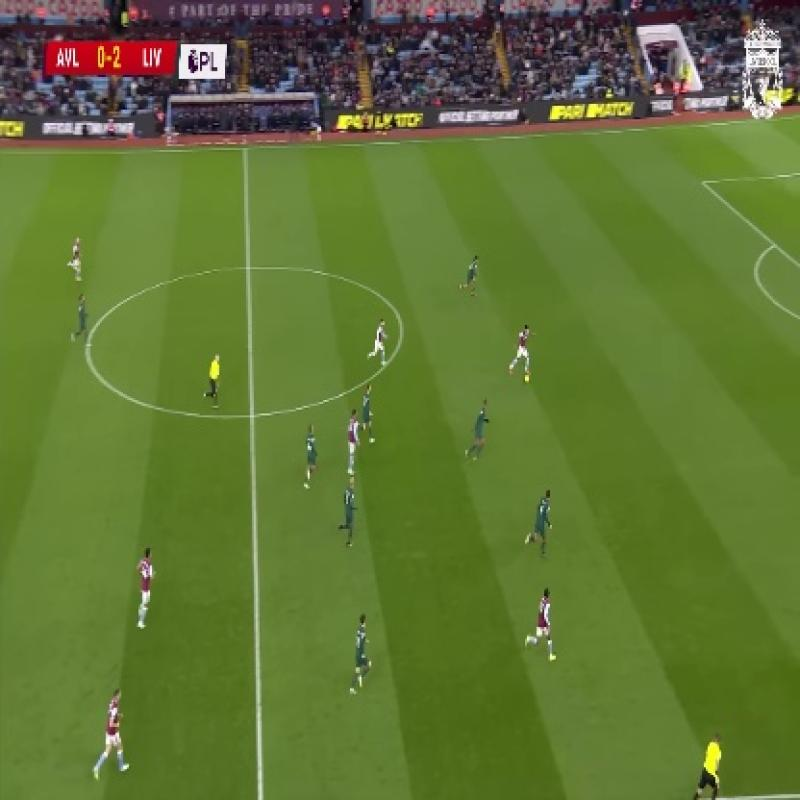10: (764, 231, 782, 256)
13: (235, 132, 256, 160)
14: (233, 250, 262, 284)
15: (237, 394, 264, 432)
9: (692, 169, 711, 194)
c: (74, 332, 102, 378), (387, 310, 415, 354)
